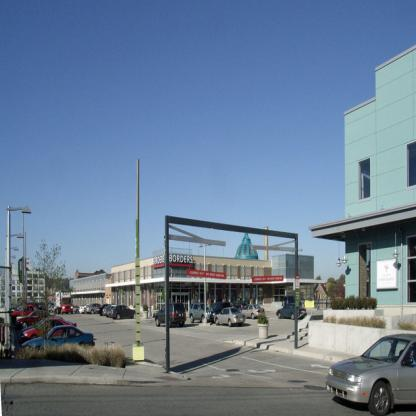Car: (326, 330, 416, 414), (9, 295, 136, 348), (154, 303, 185, 326), (213, 309, 245, 325), (209, 301, 234, 321), (275, 306, 307, 320), (189, 302, 209, 322), (241, 304, 265, 320)
